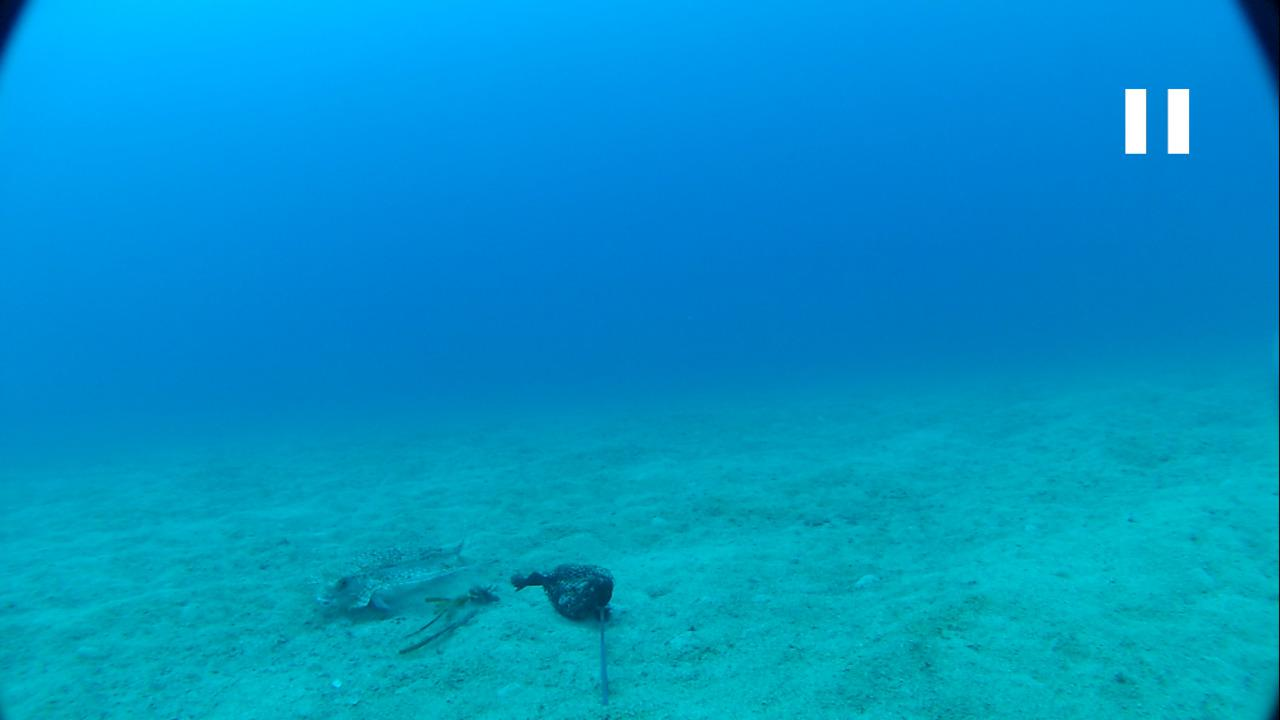dactylopterus: (306, 531, 502, 625)
